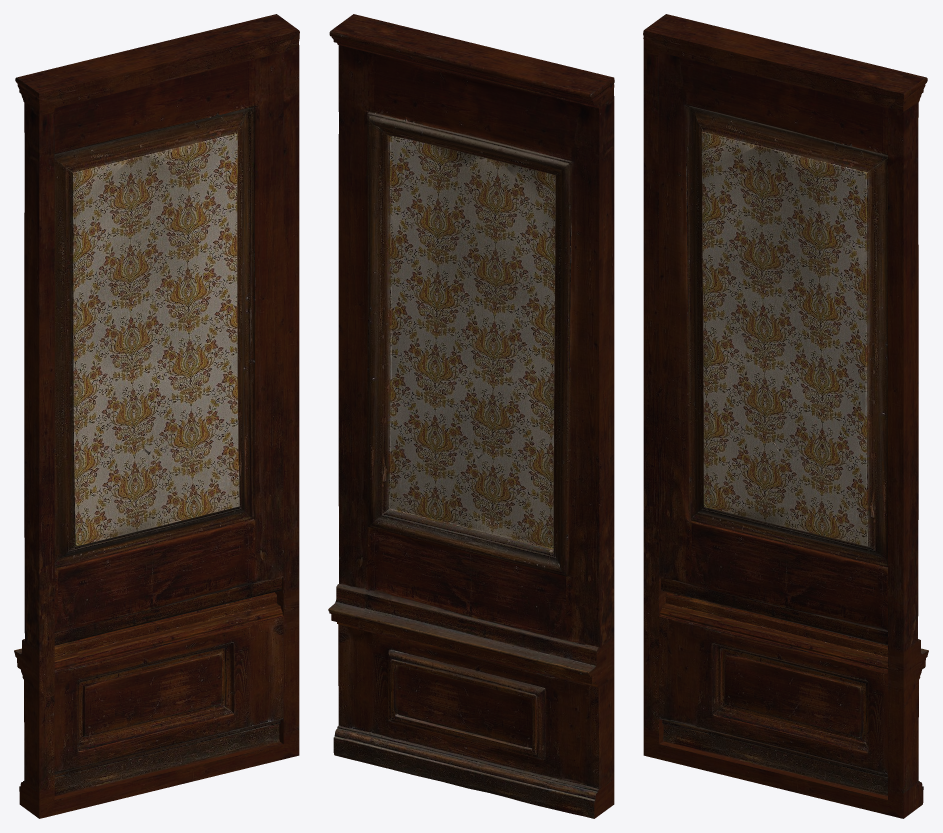
File: panel-wall-modular.glb
The picture shows the model from 3 angles, left to right: view 1: azimuth 30°, elevation 25°; view 2: azimuth 150°, elevation 25°; view 3: azimuth 330°, elevation 25°; orthographic projection.
Visible parts, largest first — view 1: panel-wall-modular; view 2: panel-wall-modular; view 3: panel-wall-modular.
Boxes of the visible parts, <box> form: panel-wall-modular: <box>14,14,299,818</box>; panel-wall-modular: <box>328,14,614,818</box>; panel-wall-modular: <box>643,14,928,818</box>.
Size of the model in its own units: 1.51 by 4 by 0.2545.
1 material, 1 textured.
